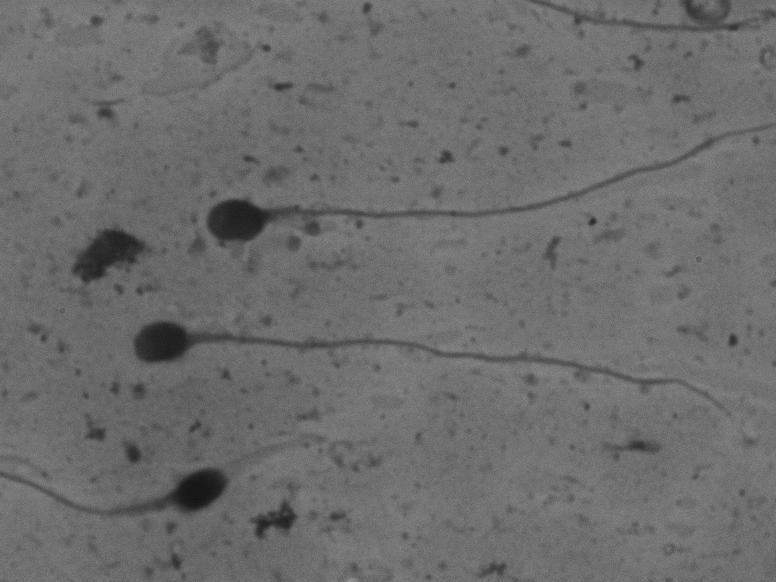Normal: (187, 107, 767, 260), (115, 310, 742, 443), (11, 445, 262, 540)
